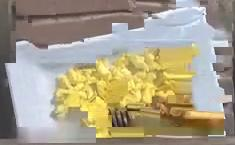scrambled_eggs: (51, 46, 222, 137)
